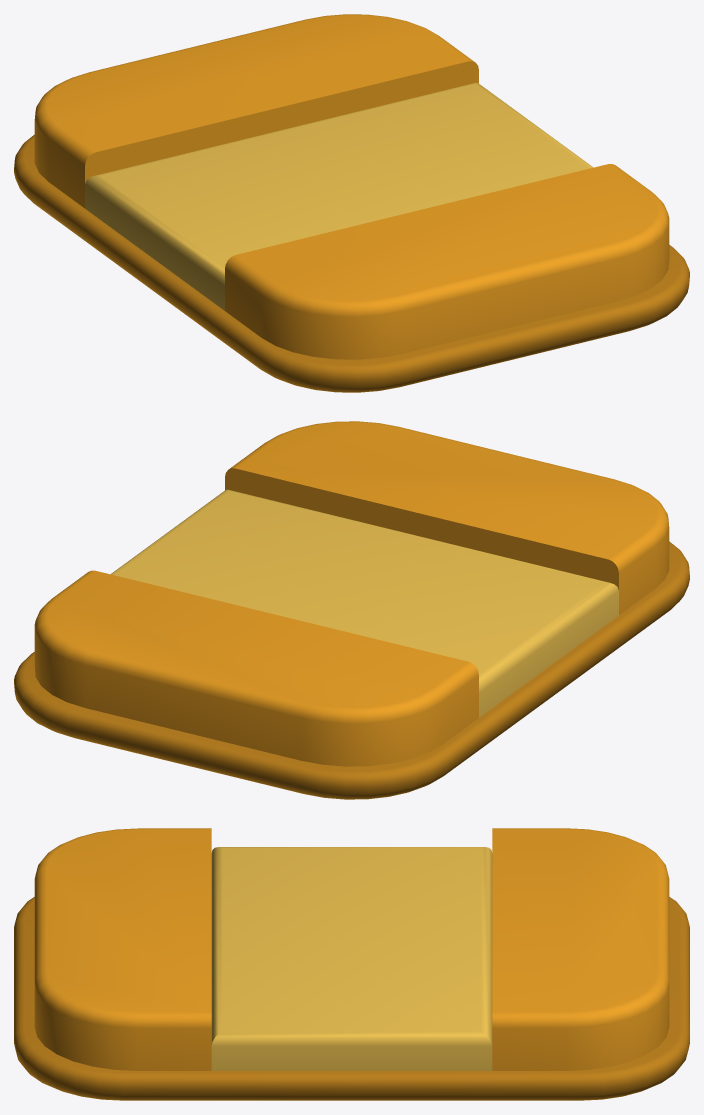
File: Button_v2_2.fbx
3 views of the same model, one above another, from view 1: azimuth 30°, elevation 25°; view 2: azimuth 150°, elevation 25°; view 3: azimuth 270°, elevation 25° (orthographic).
Parts seen in each view (by area): view 1: Down, Center, Up, Base; view 2: Up, Center, Down, Base; view 3: Center, Up, Down, Base.
Part boxes in pixels (<box>): Down: <box>225,164,669,359</box>; Center: <box>85,82,593,310</box>; Up: <box>34,14,478,208</box>; Base: <box>14,134,689,392</box>; Up: <box>34,570,478,766</box>; Center: <box>111,489,618,717</box>; Down: <box>225,421,669,615</box>; Base: <box>14,541,689,799</box>; Center: <box>211,847,492,1070</box>; Up: <box>492,828,669,1070</box>; Down: <box>34,828,211,1070</box>; Base: <box>14,897,689,1100</box>.
Bounding box in the file's own units: 242 × 46.03 × 337.
